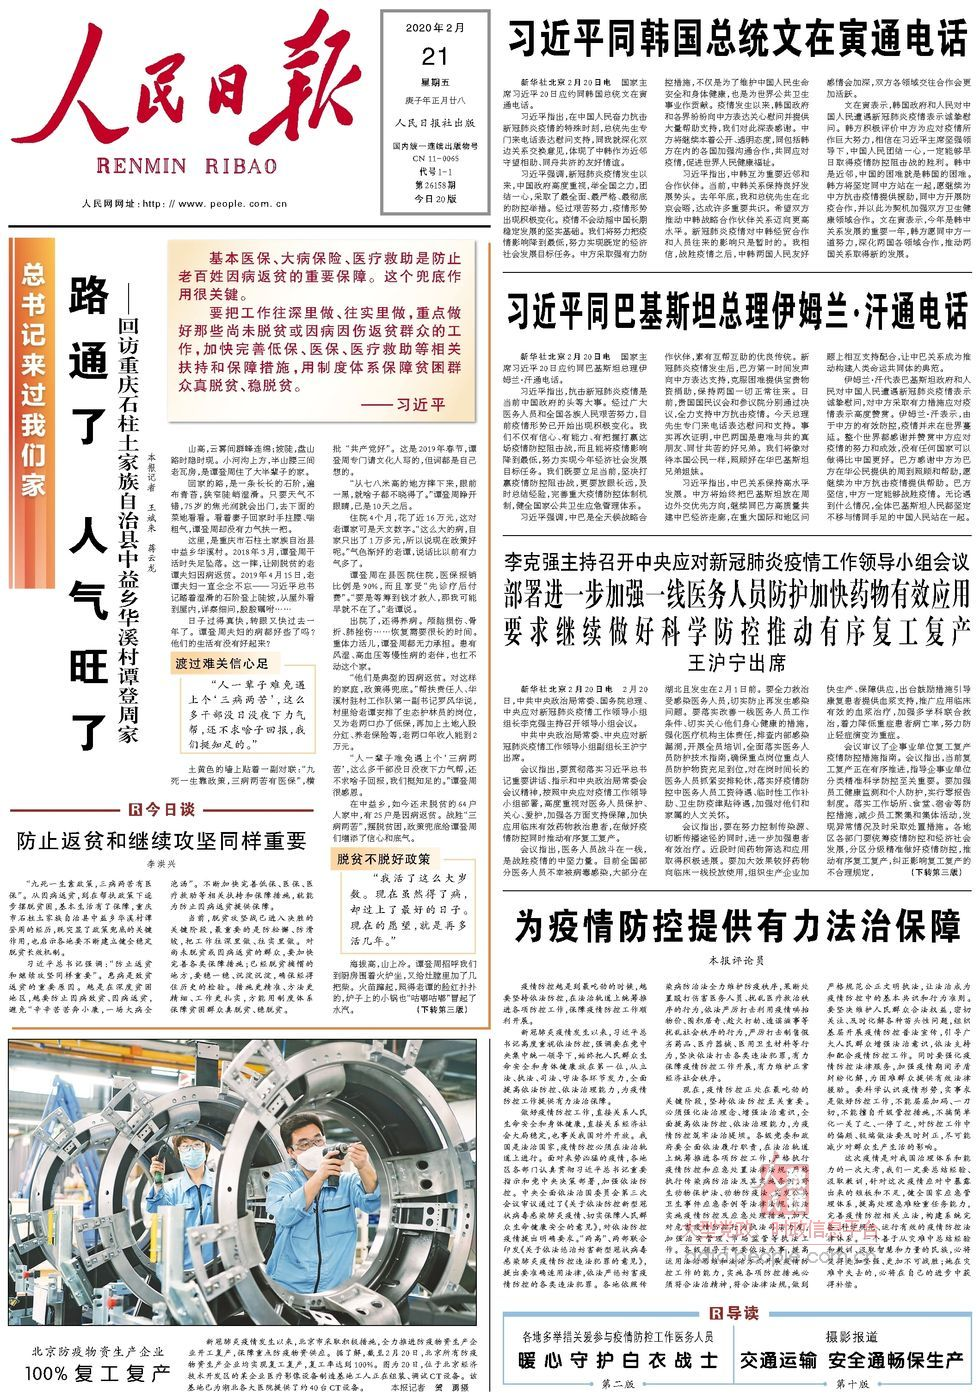pic: (3, 1034, 483, 1331)
